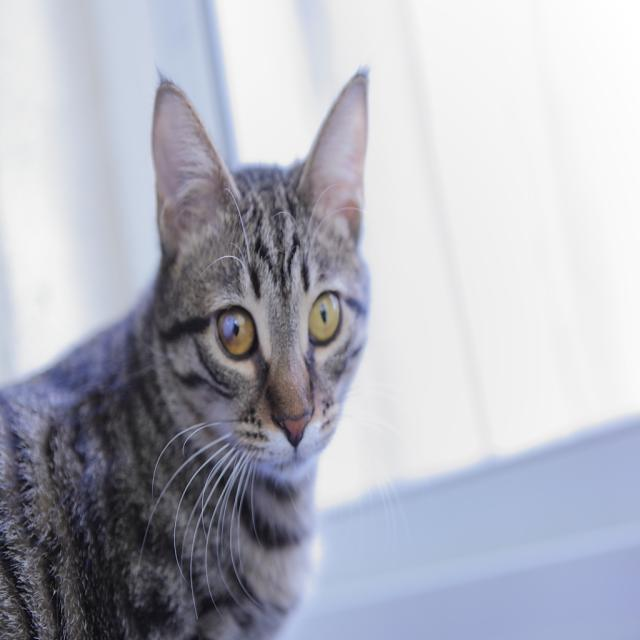Cat: (0, 62, 401, 639)
